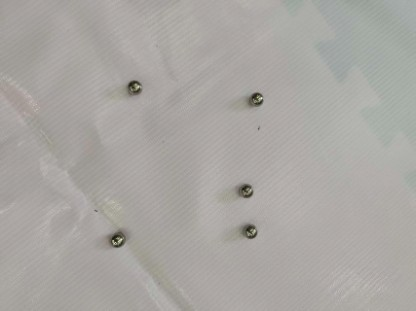ironball: (110, 232, 122, 246), (128, 80, 140, 93), (240, 183, 251, 197), (245, 224, 255, 237), (251, 92, 262, 103)
